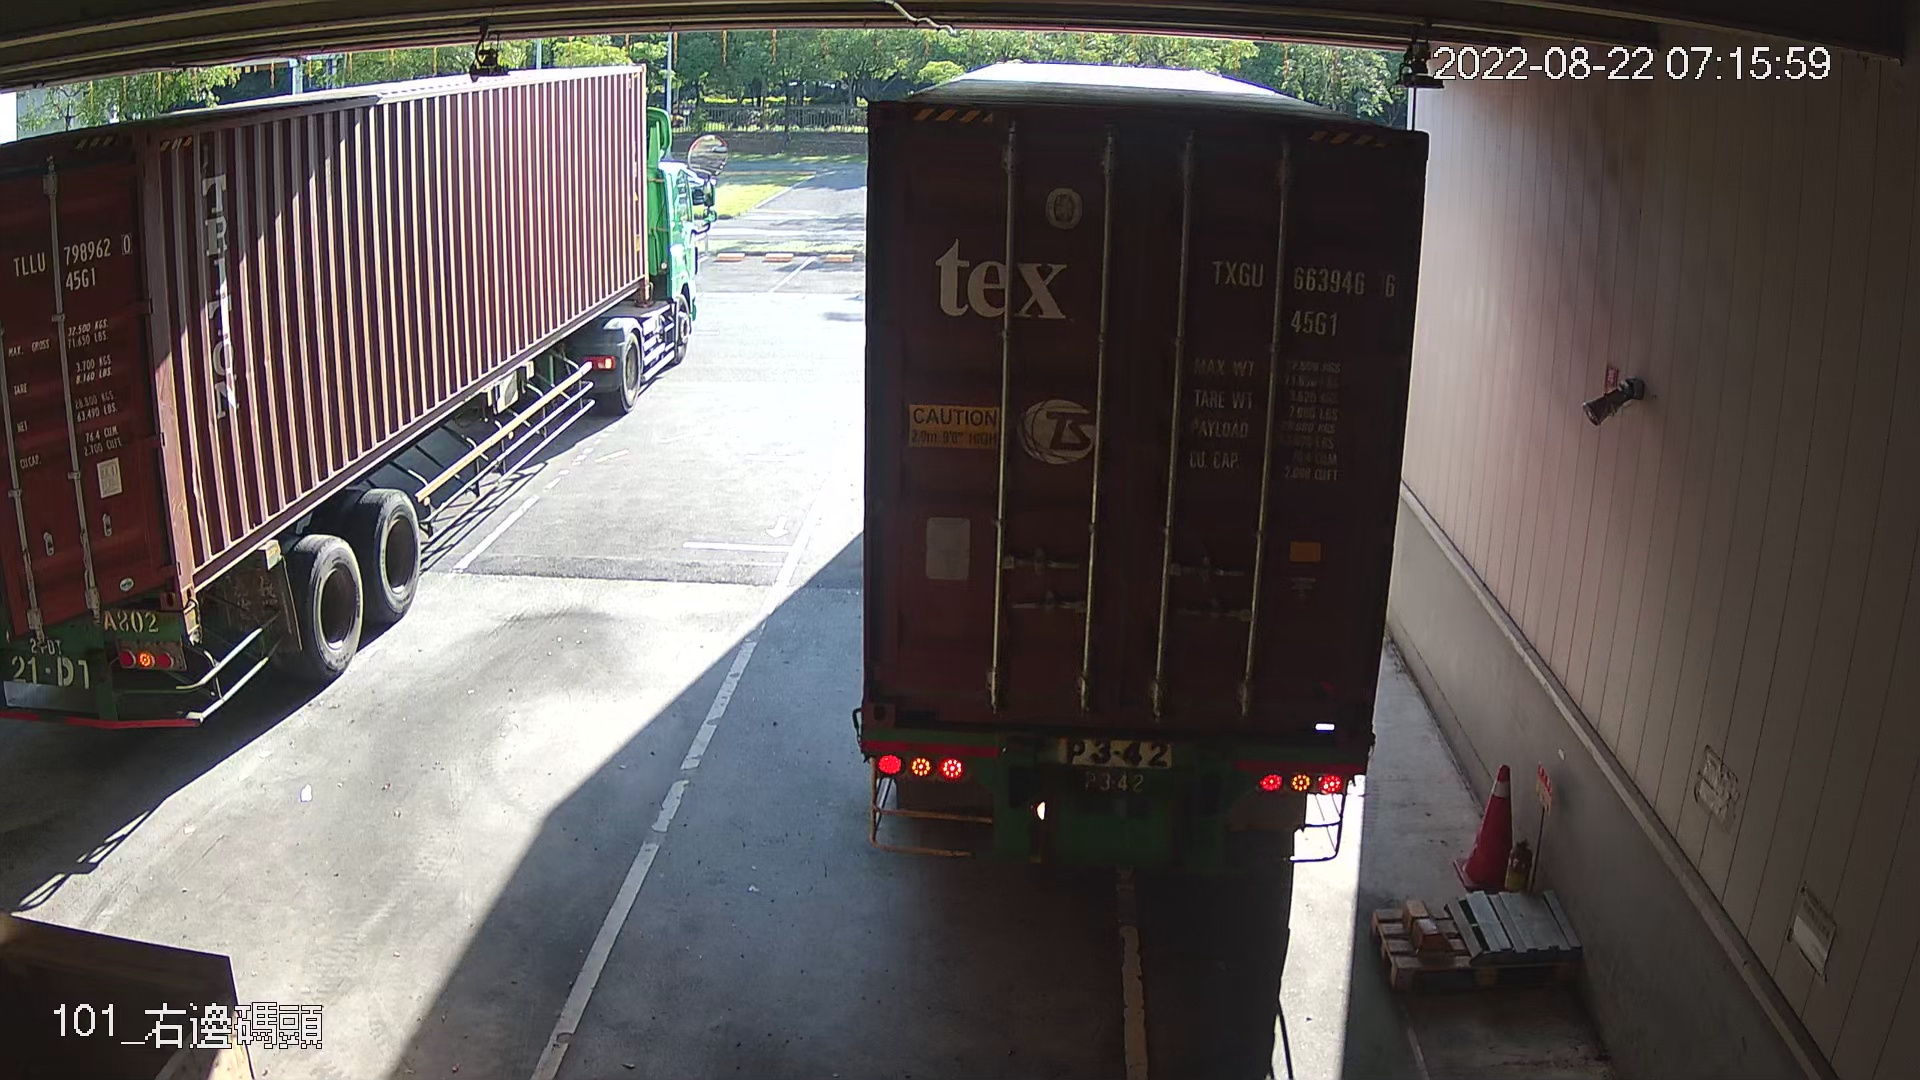container: (1201, 248, 1404, 342)
